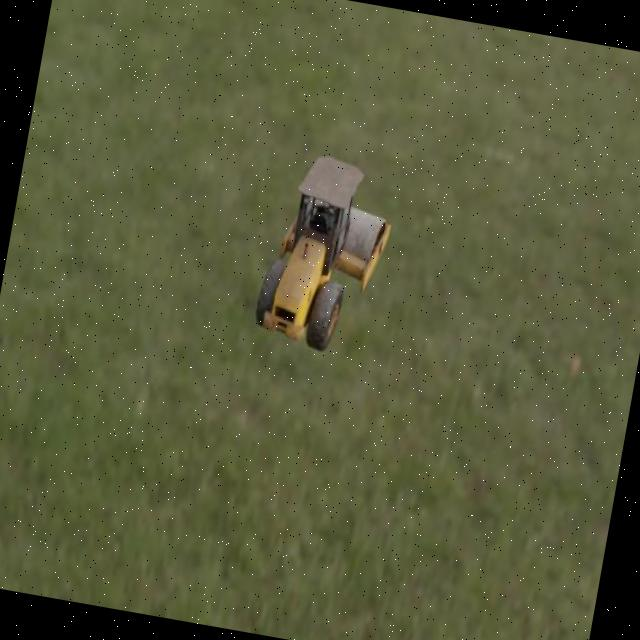Roller: (250, 147, 400, 360)
